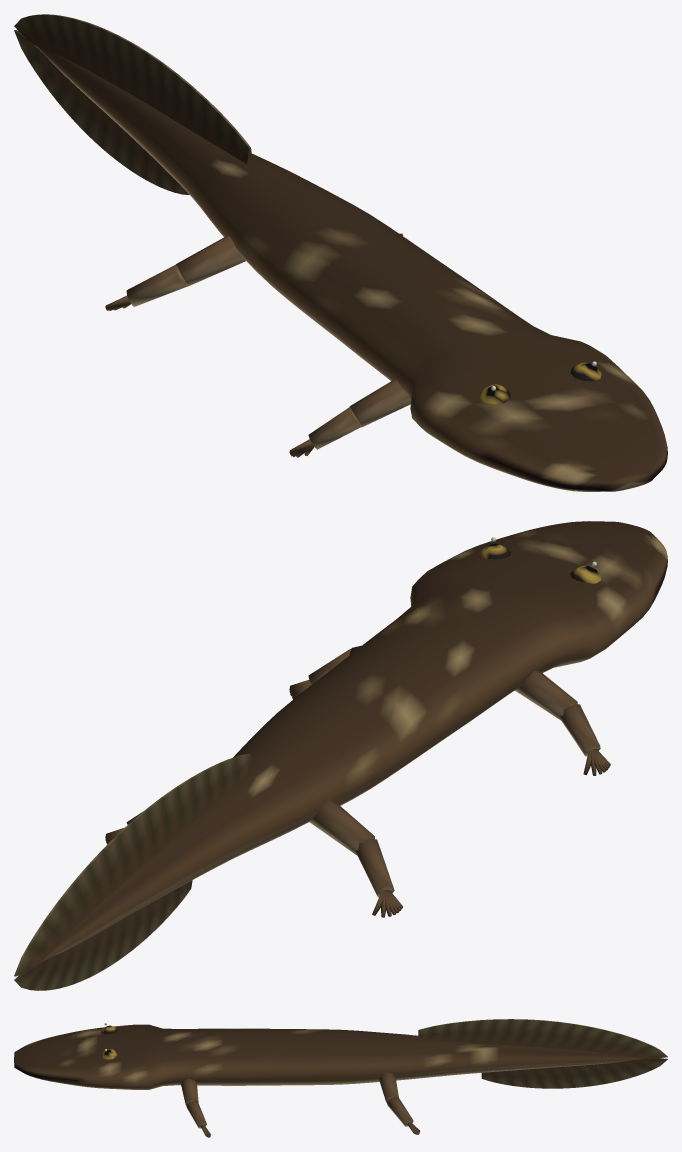
The model's file is Ventastega.fbx.
3 renders of one model, top to bottom at view 1: azimuth 30°, elevation 25°; view 2: azimuth 150°, elevation 25°; view 3: azimuth 270°, elevation 25°, orthographic. The views are drawn at different scales.
Visible parts, largest first — view 1: Ventastega; view 2: Ventastega; view 3: Ventastega.
Boxes of the visible parts, bbox=[...] form: Ventastega: bbox=[14, 14, 667, 491]; Ventastega: bbox=[14, 521, 667, 990]; Ventastega: bbox=[14, 1019, 667, 1137].
Size of the model in its own units: 0.4956 by 0.2237 by 1.65.
